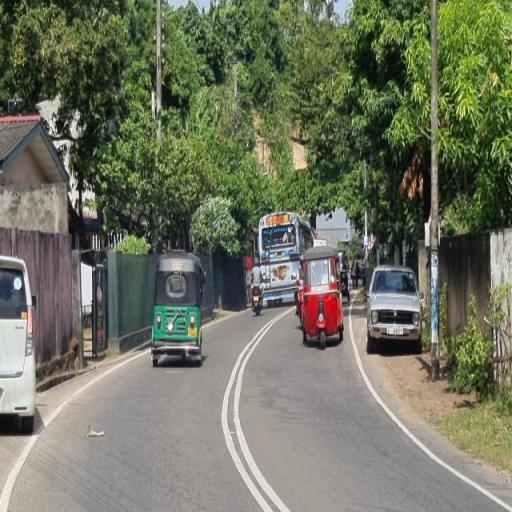double_white_line: (348, 316, 510, 510), (219, 307, 293, 512)
